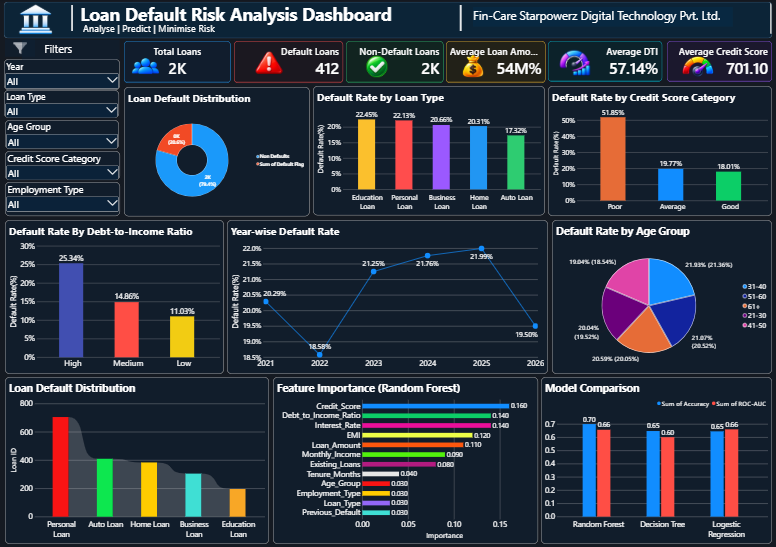

The page's visual inventory and layout, read from the dashboard file:
{"tool":"powerbi","page":{"name":"Page 1","canvas":[3532,2500],"ordinal":0},"visuals":[{"type":"cardVisual","title":"Total Loans","fields":{"Data":["Loan_Data.Total Loans"]},"box":[565.6,190.6,485,190.6],"z":0},{"type":"cardVisual","fields":{"Data":["Loan_Data.Total Defaults"]},"box":[1065.6,190.6,496,190.6],"z":1000},{"type":"cardVisual","fields":{"Data":["Loan_Data.Non Defaults"]},"box":[1571.9,190.6,443,190.6],"z":2000},{"type":"cardVisual","fields":{"Data":["Loan_Data.Average Loan Amount"]},"box":[2028.1,190.6,452,190.6],"z":3000},{"type":"cardVisual","fields":{"Data":["Loan_Data.Average DTI"]},"box":[2492.6,192.6,518.5,185.2],"z":4000},{"type":"cardVisual","fields":{"Data":["Loan_Data.Average Credit Score"]},"box":[3031.8,190.9,477.3,186.4],"z":5000},{"type":"textbox","box":[18.2,13.6,3490.9,163.6],"z":6000},{"type":"textbox","box":[2148.1,37,1181.5,88.9],"z":7000},{"type":"textbox","box":[1981.5,0,225.9,192.6],"z":8000},{"type":"donutChart","title":"Loan Default Distribution","fields":{"Y":["Loan_Data.Non Defaults","Sum(Loan_Data.Default Flag)"]},"box":[564,400,844,588],"z":9000},{"type":"textbox","box":[278.1,0,100,175],"z":10000},{"type":"clusteredColumnChart","title":"Default Rate by Loan Type","fields":{"Category":["Loan_Data.Loan Type"],"Y":["Loan_Data.Default Rate"]},"box":[1424,396,1054,588],"z":11000},{"type":"columnChart","title":"Default Rate by Credit Score Category","fields":{"Category":["Loan_Data.Credit Score Category"],"Y":["Loan_Data.Default Rate"]},"box":[2490.9,395.5,1018.2,590.9],"z":12000},{"type":"columnChart","title":"Default Rate By Debt-to-Income Ratio","fields":{"Category":["Loan_Data.DTI Category"],"Y":["Loan_Data.Default Rate"]},"box":[22.7,1004.5,995.5,700],"z":13000},{"type":"lineChart","title":"Year-wise Default Rate","fields":{"Category":["Loan_Data.Approval Year"],"Y":["Loan_Data.Default Rate"]},"box":[1033.3,1003.7,1459.3,700],"z":14000},{"type":"pieChart","title":"Default Rate by Age Group","fields":{"Category":["Loan_Data.Age Group"],"Y":["Loan_Data.Default Rate"]},"box":[2509.1,1004.5,1000,700],"z":15000},{"type":"clusteredColumnChart","title":"Model Comparison","fields":{"Category":["Model_Comparison.Model"],"Y":["Sum(Model_Comparison.Accuracy)","Sum(Model_Comparison.ROC-AUC)"]},"box":[2459.1,1718.2,1050,759.1],"z":16000},{"type":"clusteredBarChart","title":"Feature Importance (Random Forest)","fields":{"Category":["feature_importance.Feature"],"Y":["Sum(feature_importance.Importance)"]},"box":[1240.9,1718.2,1204.5,759.1],"z":17000},{"type":"ribbonChart","title":"Loan Default Distribution","fields":{"Category":["Loan_Data.Loan Type"],"Y":["CountNonNull(Loan_Data.Loan ID)"]},"box":[22.7,1718.2,1200,759.1],"z":18000},{"type":"image","box":[44.4,0,233.3,185.2],"z":19000},{"type":"image","box":[592.6,211.1,140.7,188.9],"z":20000},{"type":"image","box":[1137,177.8,174.1,225.9],"z":21000},{"type":"image","box":[1629.6,214.8,163,188.9],"z":22000},{"type":"image","box":[2088.9,214.8,118.5,188.9],"z":23000},{"type":"image","box":[2511.1,196.3,203.7,188.9],"z":24000},{"type":"image","box":[3092.6,214.8,163,188.9],"z":25000},{"type":"textbox","box":[377.8,106,688.9,100],"z":26000},{"type":"slicer","fields":{"Values":["Loan_Data.Approval Year"]},"box":[18.2,272.7,527.3,140.9],"z":27000},{"type":"slicer","fields":{"Values":["Loan_Data.Loan Type"]},"box":[18.2,413.6,522.7,127.3],"z":28000},{"type":"slicer","fields":{"Values":["Loan_Data.Age Group"]},"box":[22.7,550,518.2,131.8],"z":29000},{"type":"slicer","fields":{"Values":["Loan_Data.Credit Score Category"]},"box":[22.7,690.9,522.7,131.8],"z":30000},{"type":"slicer","fields":{"Values":["Loan_Data.Employment Type"]},"box":[22.7,831.8,522.7,154.5],"z":31000},{"type":"image","box":[22.2,181.5,137,81.5],"z":32000},{"type":"textbox","box":[100,185.2,444.4,88.9],"z":33000}]}

Visuals, with their boxes in screenshot pixels (x1, y1, x2, y2), scaled from the page's 3532x2500 canvas onto the 776x547 screenshot:
"Total Loans" cardVisual: bbox(124, 42, 231, 83)
cardVisual - Loan_Data.Total Defaults: bbox(234, 42, 343, 83)
cardVisual - Loan_Data.Non Defaults: bbox(345, 42, 443, 83)
cardVisual - Loan_Data.Average Loan Amount: bbox(446, 42, 545, 83)
cardVisual - Loan_Data.Average DTI: bbox(548, 42, 662, 83)
cardVisual - Loan_Data.Average Credit Score: bbox(666, 42, 771, 83)
textbox: bbox(4, 3, 771, 39)
textbox: bbox(472, 8, 732, 28)
textbox: bbox(435, 0, 485, 42)
"Loan Default Distribution" donutChart: bbox(124, 88, 309, 216)
textbox: bbox(61, 0, 83, 38)
"Default Rate by Loan Type" clusteredColumnChart: bbox(313, 87, 544, 215)
"Default Rate by Credit Score Category" columnChart: bbox(547, 87, 771, 216)
"Default Rate By Debt-to-Income Ratio" columnChart: bbox(5, 220, 224, 373)
"Year-wise Default Rate" lineChart: bbox(227, 220, 548, 373)
"Default Rate by Age Group" pieChart: bbox(551, 220, 771, 373)
"Model Comparison" clusteredColumnChart: bbox(540, 376, 771, 542)
"Feature Importance (Random Forest)" clusteredBarChart: bbox(273, 376, 537, 542)
"Loan Default Distribution" ribbonChart: bbox(5, 376, 269, 542)
image: bbox(10, 0, 61, 41)
image: bbox(130, 46, 161, 88)
image: bbox(250, 39, 288, 88)
image: bbox(358, 47, 394, 88)
image: bbox(459, 47, 485, 88)
image: bbox(552, 43, 596, 84)
image: bbox(679, 47, 715, 88)
textbox: bbox(83, 23, 234, 45)
slicer - Loan_Data.Approval Year: bbox(4, 60, 120, 90)
slicer - Loan_Data.Loan Type: bbox(4, 90, 119, 118)
slicer - Loan_Data.Age Group: bbox(5, 120, 119, 149)
slicer - Loan_Data.Credit Score Category: bbox(5, 151, 120, 180)
slicer - Loan_Data.Employment Type: bbox(5, 182, 120, 216)
image: bbox(5, 40, 35, 58)
textbox: bbox(22, 41, 120, 60)
